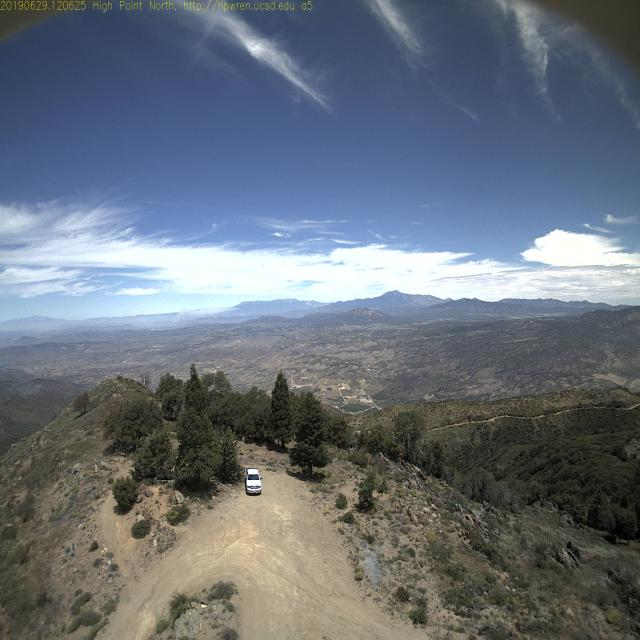smoke: (166, 303, 228, 329)
